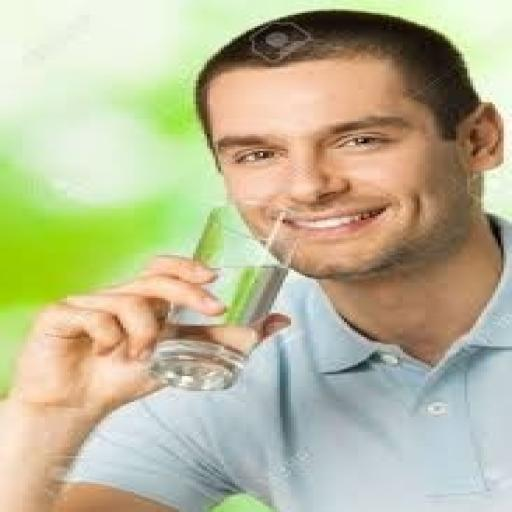drinking: (143, 205, 299, 391)
